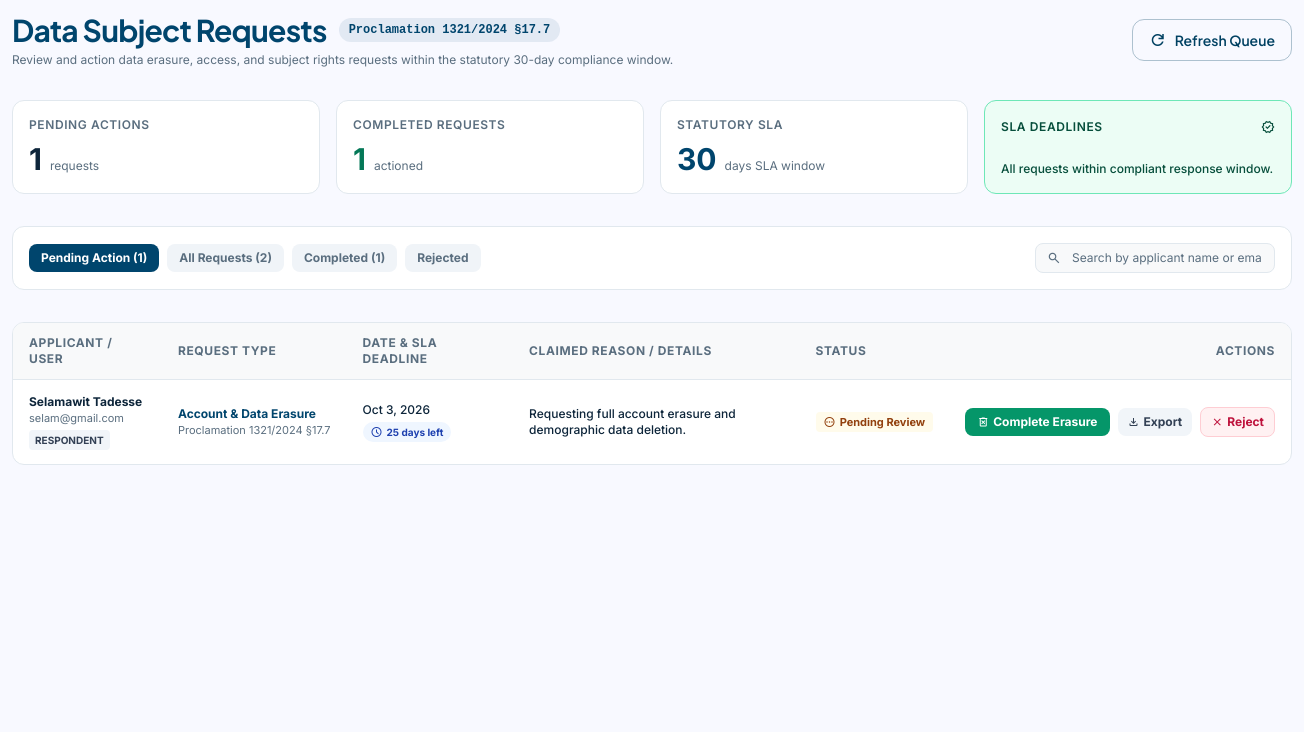
Test: Data Subject Requests Admin UI (FR-ADM-2 / Proclamation 1321/2024 §17.7) › filters requests by tab status (Pending vs Completed vs All)
Expected: the text "Selamawit Tadesse" is shown, [29,394,146,410]
Expected: the text "Haile Gebre" is not shown
Switch to All Requests tab
Click the button "All Requests (2)" at [226, 258], box [167,244,284,272]
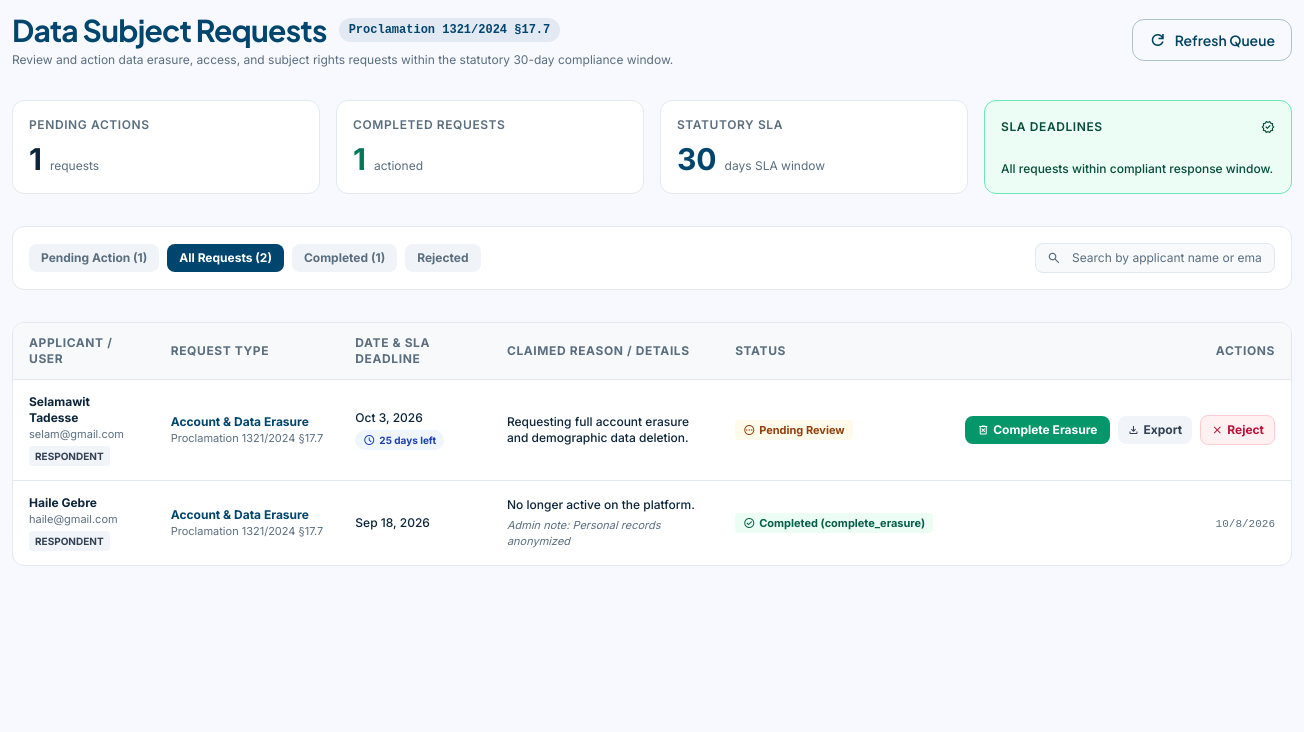
Expected: the text "Selamawit Tadesse" is shown, [29,394,90,425]
Expected: the text "Haile Gebre" is shown, [29,495,97,510]
Switch to Completed tab
Click the button "Completed (1)" at [345, 258], box [292,244,397,272]
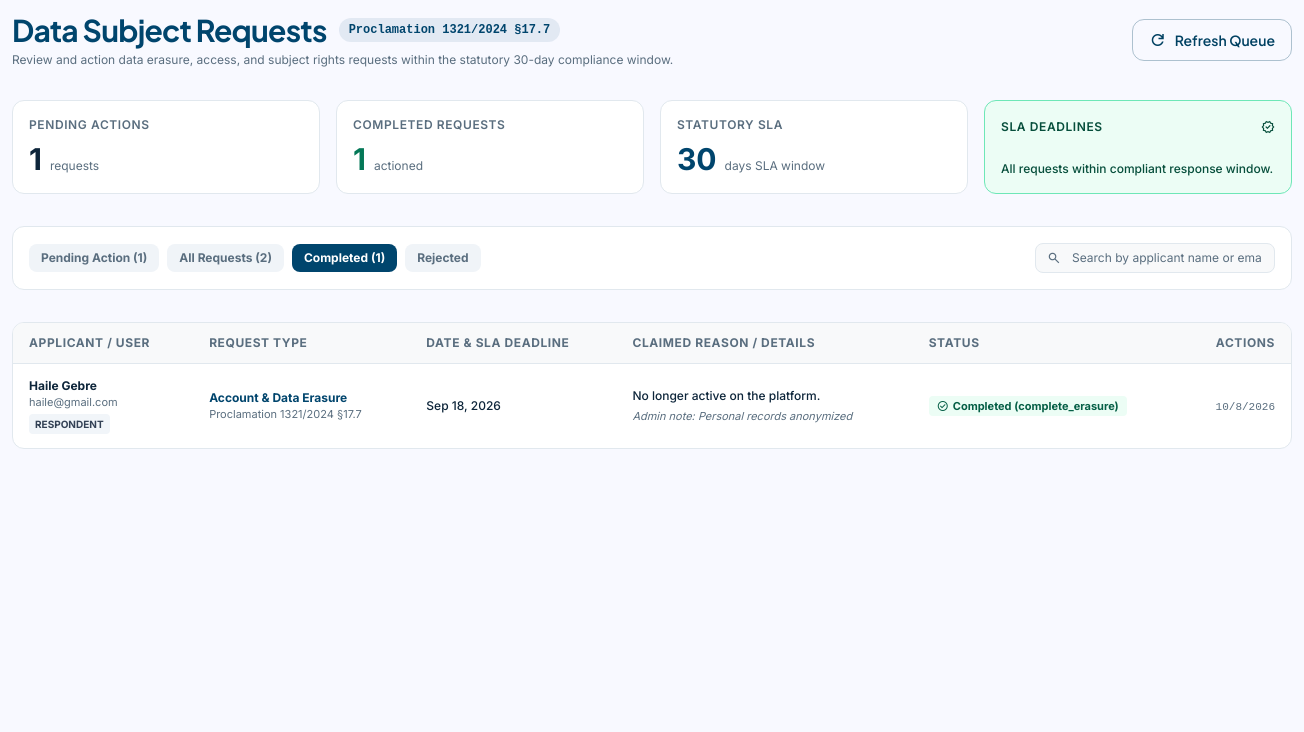
Expected: the text "Haile Gebre" is shown, [29,378,97,393]
Expected: the text "Selamawit Tadesse" is gone
